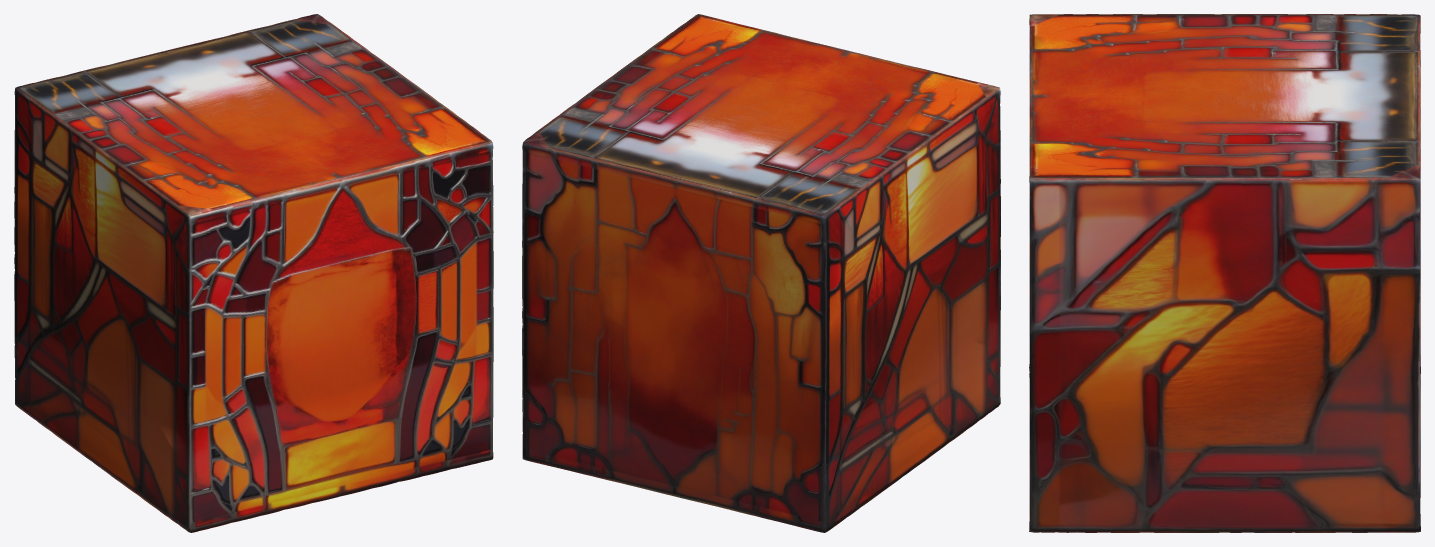
The picture shows the model from 3 angles, left to right: view 1: azimuth 30°, elevation 25°; view 2: azimuth 150°, elevation 25°; view 3: azimuth 270°, elevation 25°; orthographic projection. The views are drawn at different scales.
Visible parts, largest first — view 1: Mesh_0.002; view 2: Mesh_0.002; view 3: Mesh_0.002.
Boxes of the visible parts, box(x1,y1,x2,y2) form: Mesh_0.002: box(14, 14, 493, 532); Mesh_0.002: box(522, 14, 1000, 532); Mesh_0.002: box(1029, 14, 1420, 532).
Size of the model in its own units: 2 by 2 by 2.01.
Materials: 1 (1 with a texture image).
